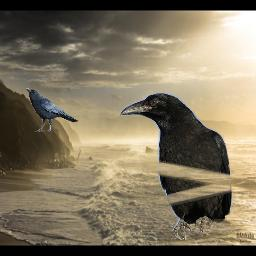Crow: (119, 92, 234, 240), (25, 88, 78, 132)
